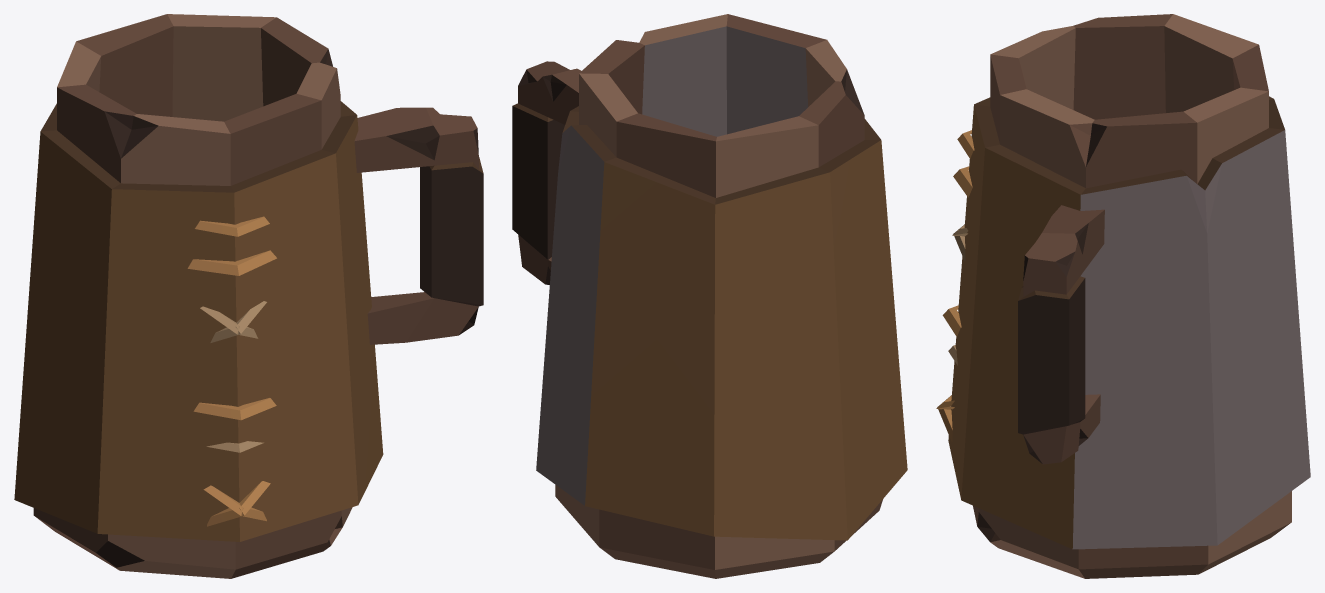
The model's file is BeerMug_01.glb.
3 views of the same model, side by side, from view 1: azimuth 30°, elevation 25°; view 2: azimuth 150°, elevation 25°; view 3: azimuth 270°, elevation 25° (orthographic). The views are drawn at different scales.
Parts seen in each view (by area): view 1: BeerMug_01; view 2: BeerMug_01; view 3: BeerMug_01.
Boxes of the visible parts, x1,y1,x2,y2 form: BeerMug_01: [14, 14, 483, 578]; BeerMug_01: [512, 14, 907, 578]; BeerMug_01: [936, 14, 1310, 578].
Size of what is drawn, in the model's own units: 0.1895 by 0.2044 by 0.1532.
Materials: 1 (1 with a texture image).
